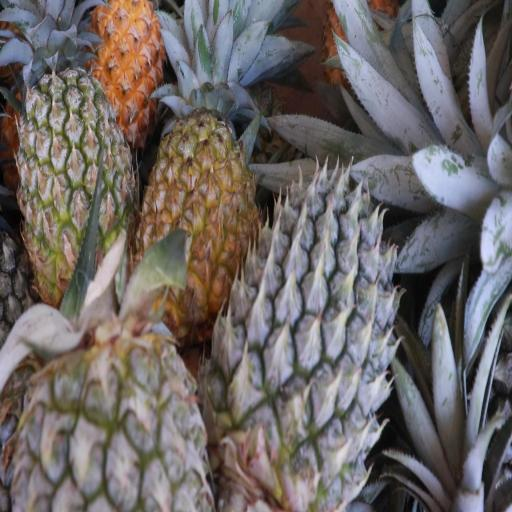------------------------------: (19, 72, 132, 290)
Pineapple - v8 v1: (144, 103, 253, 316), (73, 0, 162, 105)
